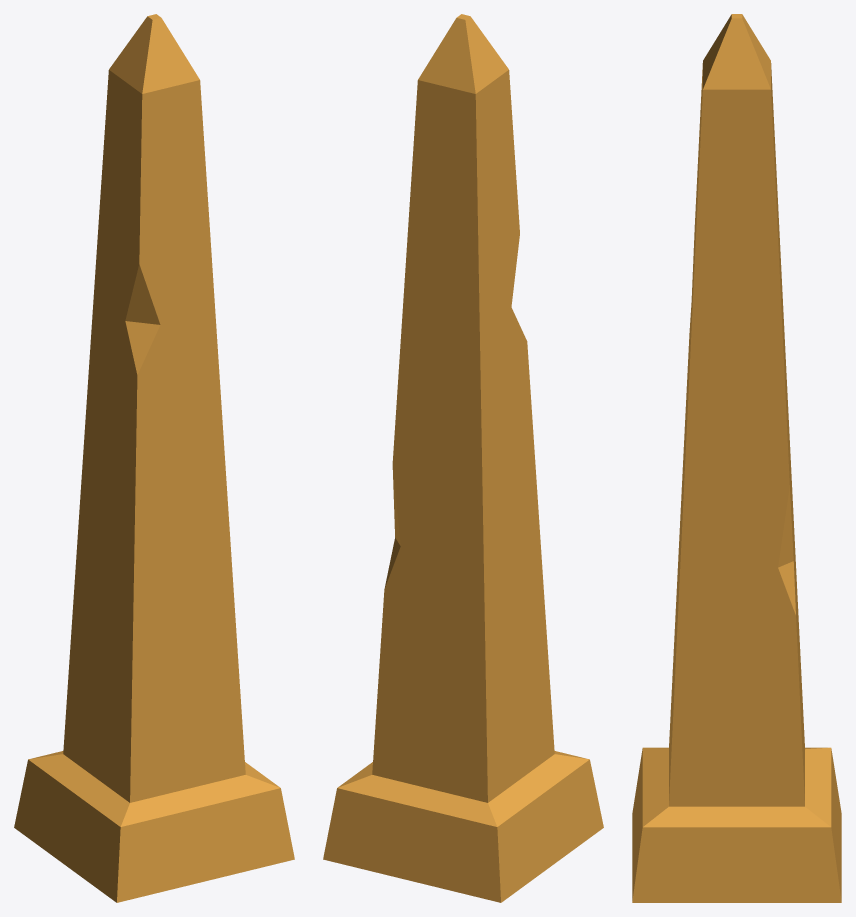
File: egypt-egypt-obelisk-old.glb
3 views of the same model, side by side, from view 1: azimuth 30°, elevation 25°; view 2: azimuth 150°, elevation 25°; view 3: azimuth 270°, elevation 25° (orthographic).
Visible parts, largest first — view 1: egypt-obelisk-old; view 2: egypt-obelisk-old; view 3: egypt-obelisk-old.
Boxes of the visible parts, left/top/right/bottom form: egypt-obelisk-old: left=14, top=14, right=294, bottom=902; egypt-obelisk-old: left=323, top=14, right=603, bottom=902; egypt-obelisk-old: left=632, top=14, right=841, bottom=902.
Size of the model in its own units: 4 by 17.74 by 4.
